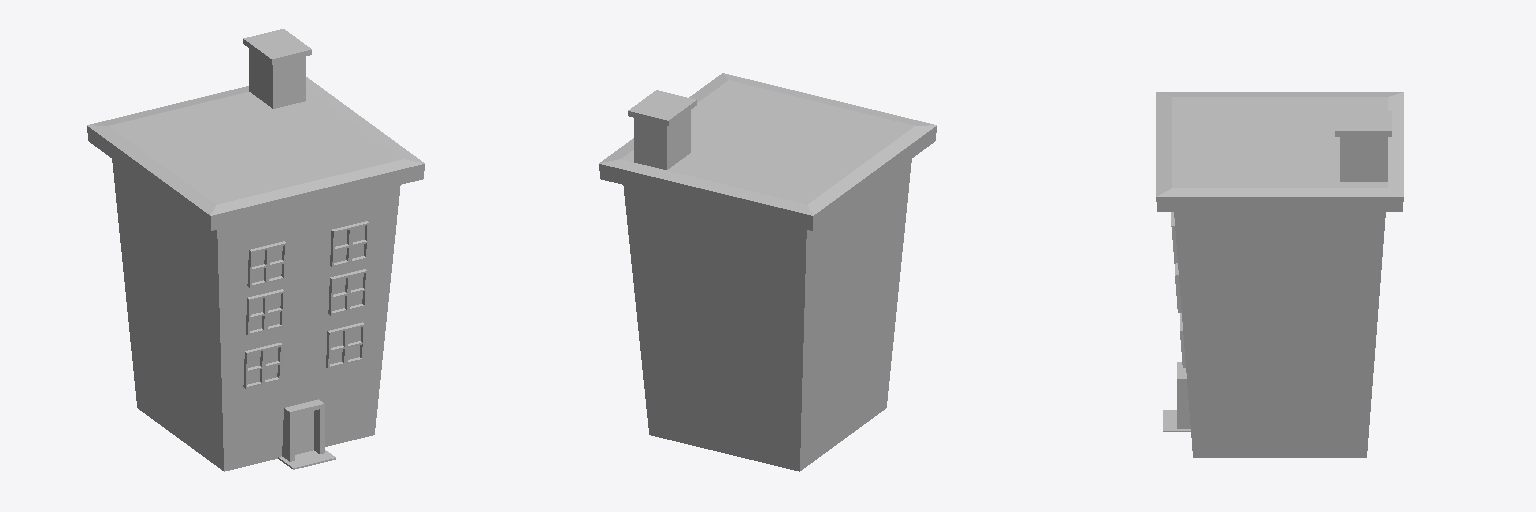
File: Building 004.obj
The picture shows the model from 3 angles: view 1: azimuth 30°, elevation 25°; view 2: azimuth 150°, elevation 25°; view 3: azimuth 270°, elevation 25°; orthographic projection.
Parts seen in each view (by area): view 1: pCube1; view 2: pCube1; view 3: pCube1.
Part boxes in pixels (x1,y1,x2,y2): pCube1: (87, 29, 424, 471); pCube1: (599, 73, 936, 471); pCube1: (1156, 92, 1403, 457).
Bounding box in the file's own units: 0.7625 × 1.13 × 0.7625.